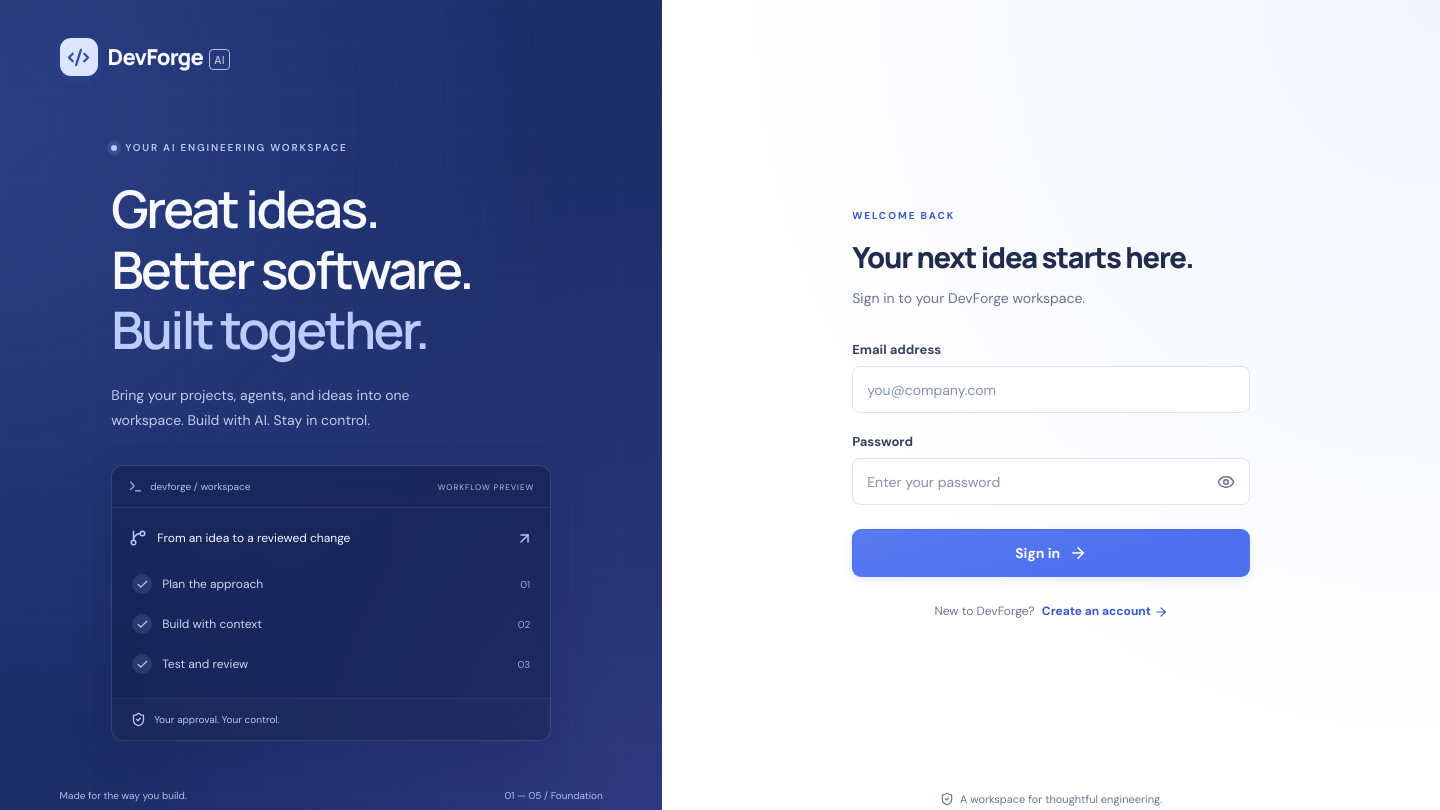
it: auth forms and routes › toggles password visibility and reports wrong credentials
The image size is (1440, 810).
Type "alex@example.com" into the field labelled "Email address" at (1051, 390), box [852, 366, 1250, 413]
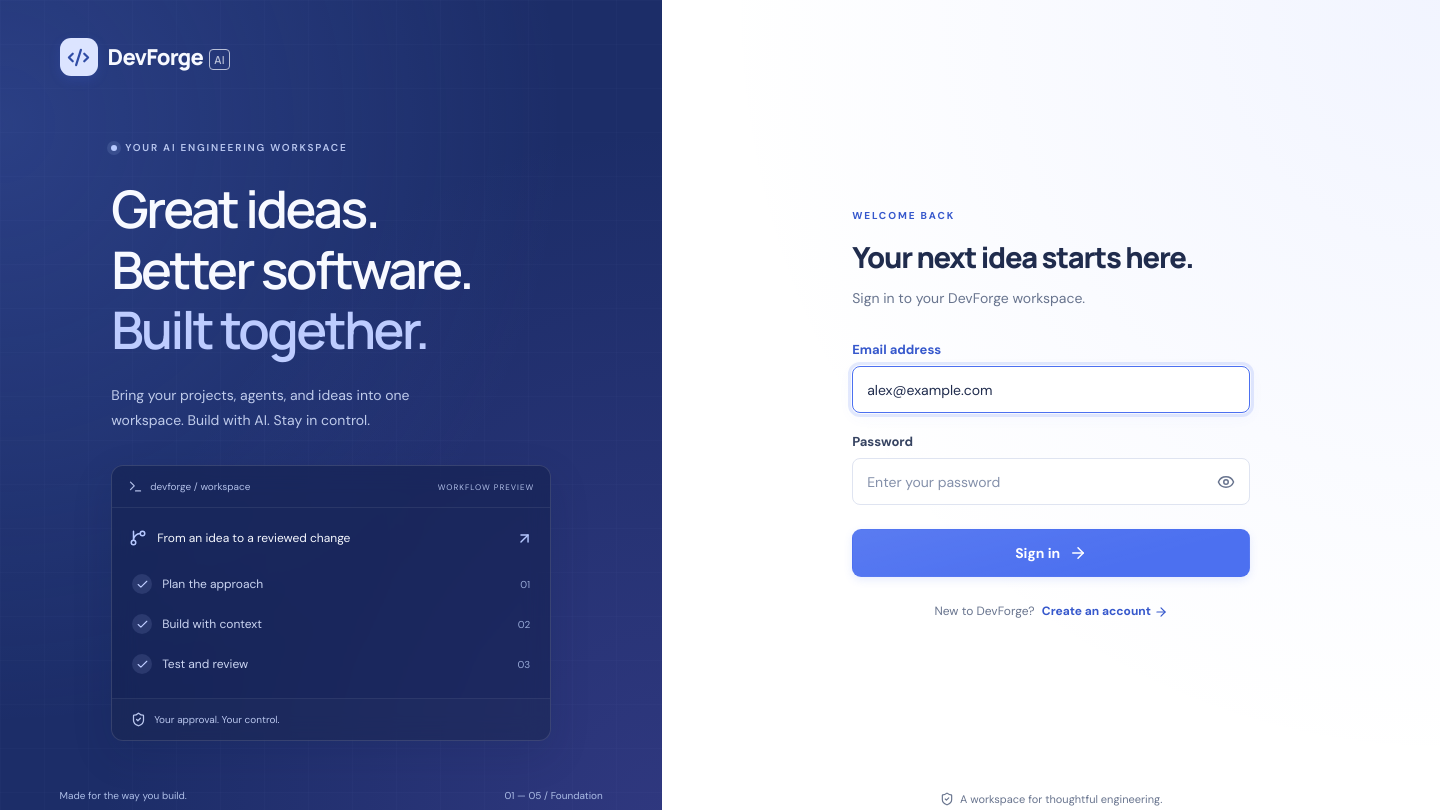
Type "badpassword" into the password field labelled "Password" at (1051, 482), box [852, 458, 1250, 505]
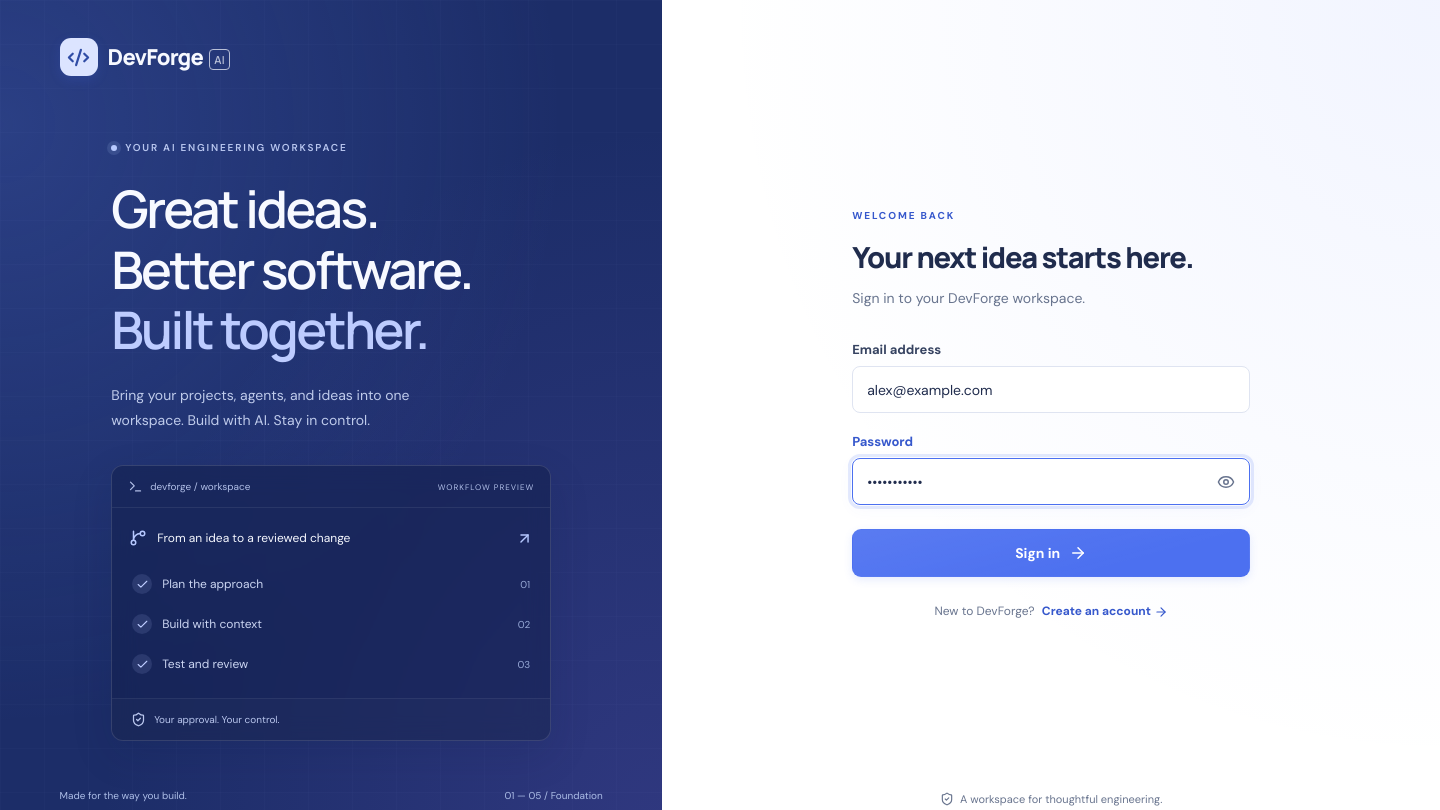
Click the button named "Show password" at (1226, 482), box [1205, 461, 1247, 503]
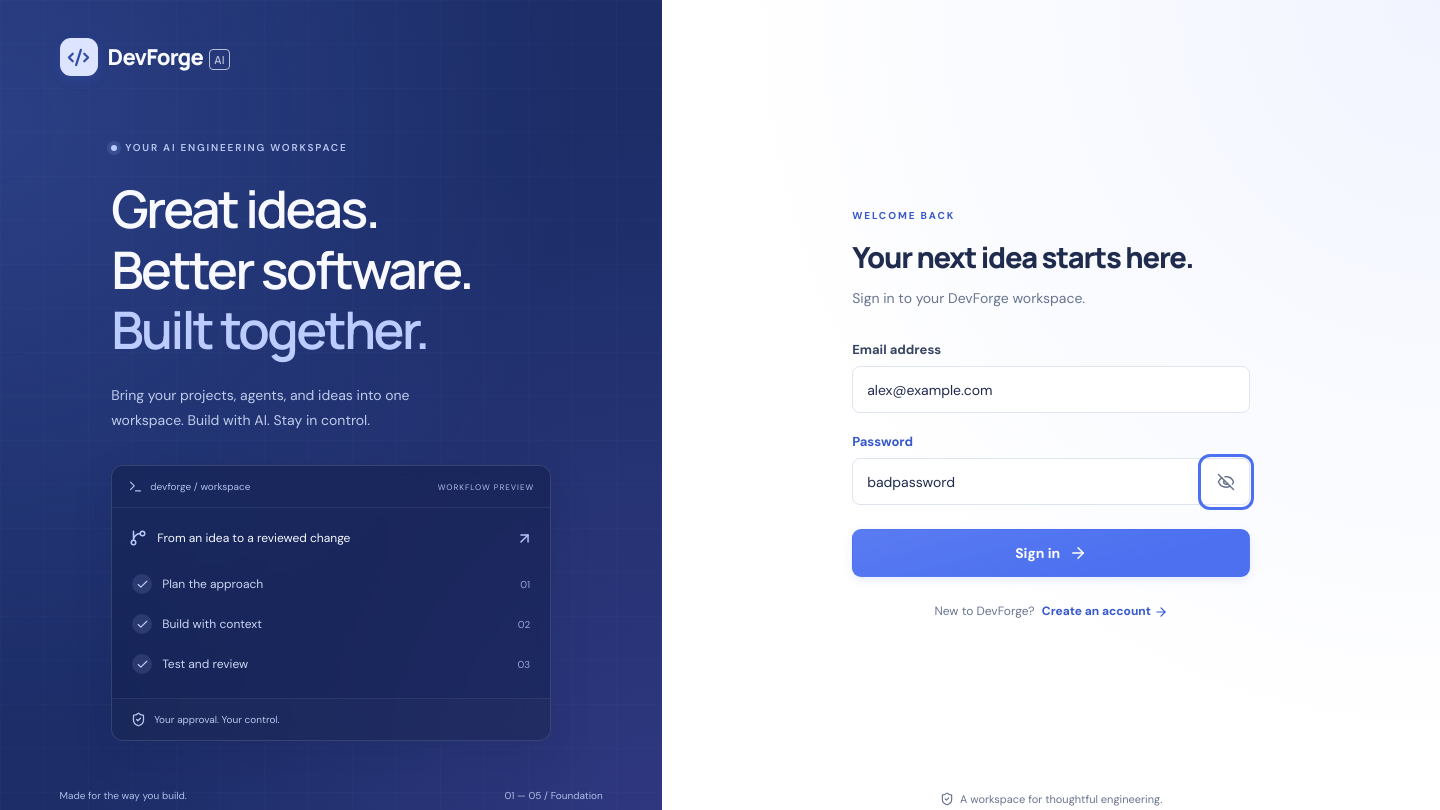
expect the field labelled "Password" shows its text: met, box [852, 458, 1250, 505]
Click the button named "Hide password" at (1226, 482), box [1205, 461, 1247, 503]
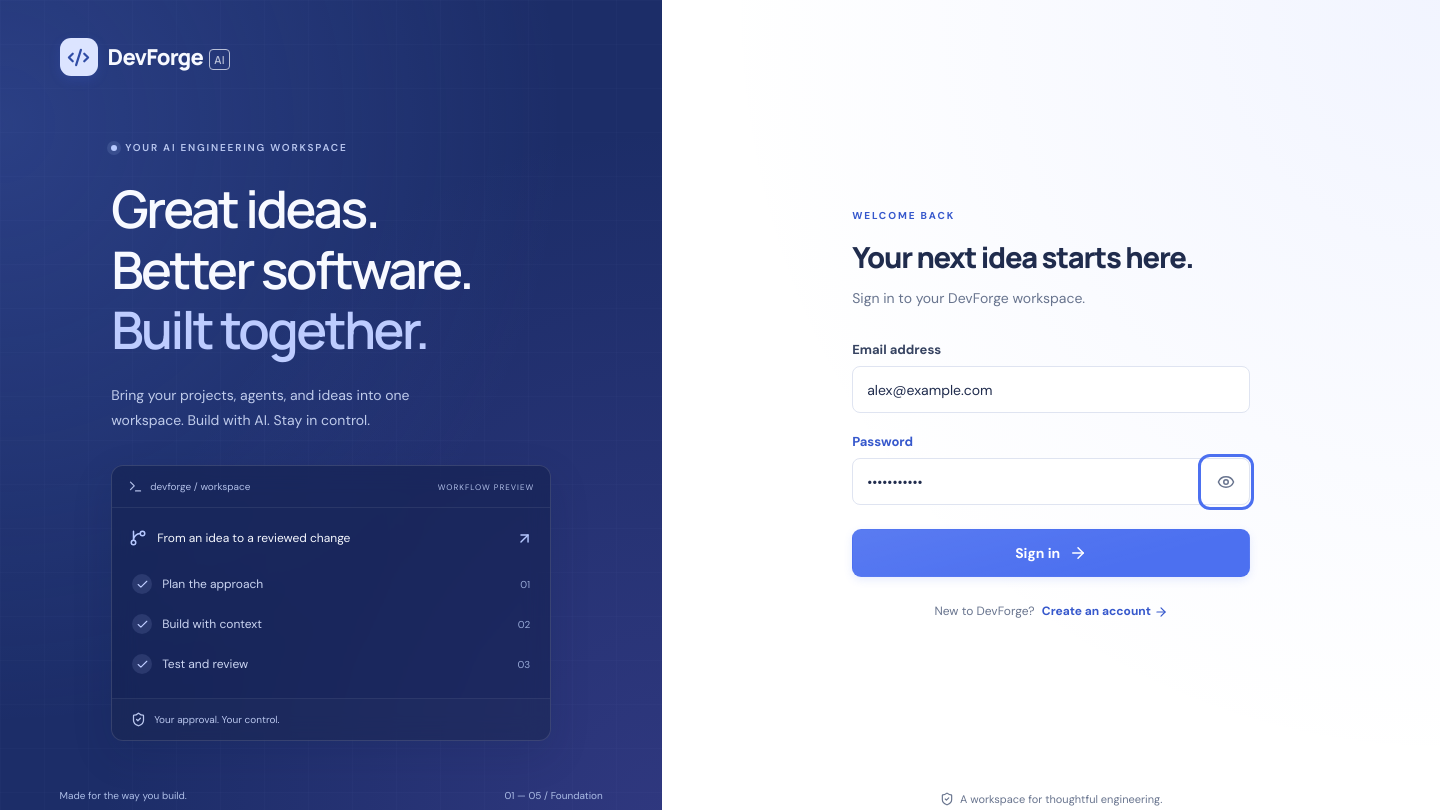
expect the password field labelled "Password" hides its text: met, box [852, 458, 1250, 505]
Click the button "Sign in" at (1051, 553), box [852, 529, 1250, 577]
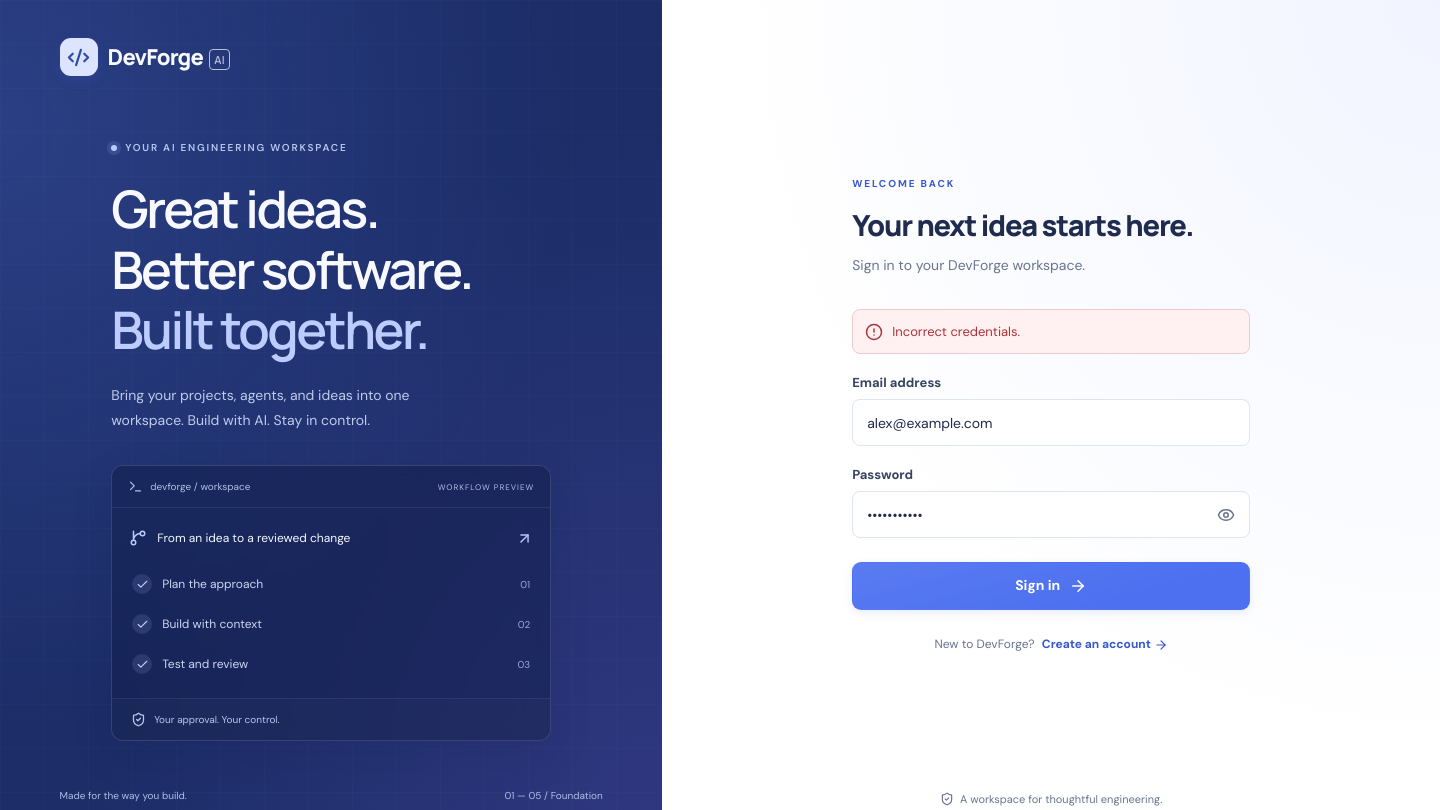
expect the message reads "Incorrect credentials.": met, box [892, 323, 1020, 340]
